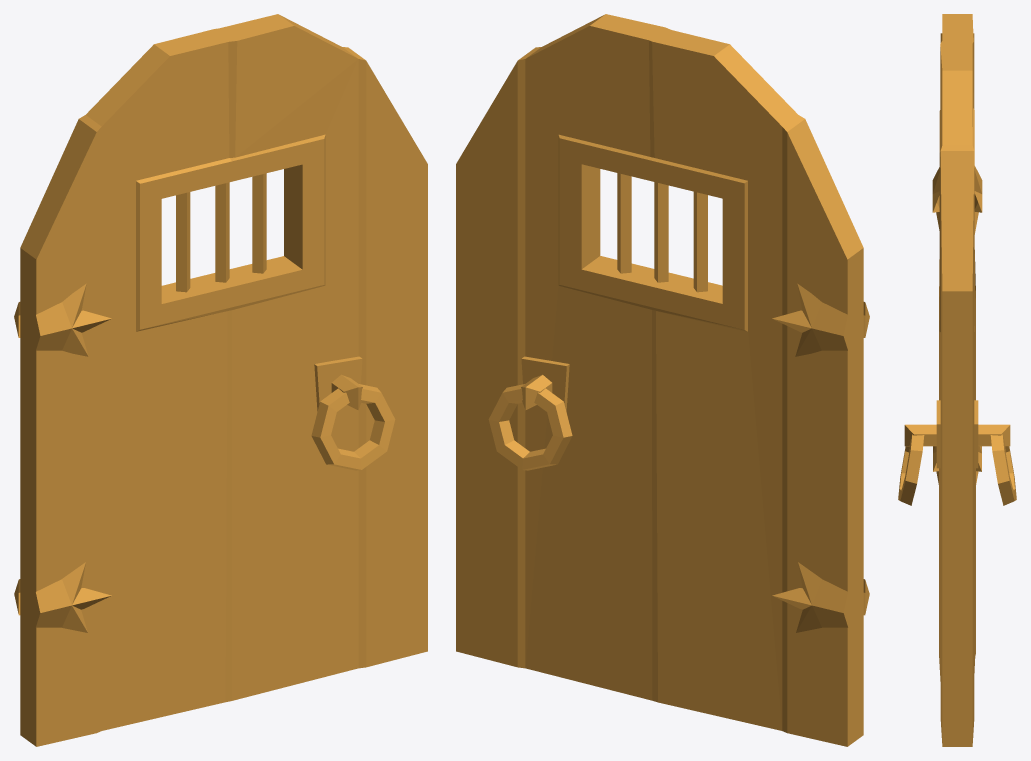
File: door-wood.fbx
3 renders of one model, left to right at view 1: azimuth 30°, elevation 25°; view 2: azimuth 150°, elevation 25°; view 3: azimuth 270°, elevation 25°, orthographic. The views are drawn at different scales.
Visible parts, largest first — view 1: door-wood; view 2: door-wood; view 3: door-wood.
Boxes of the visible parts, <box> form: door-wood: <box>14,14,427,746</box>; door-wood: <box>456,14,869,746</box>; door-wood: <box>898,14,1016,746</box>.
Bounding box in the file's own units: 1.4 × 2.25 × 0.3929.
